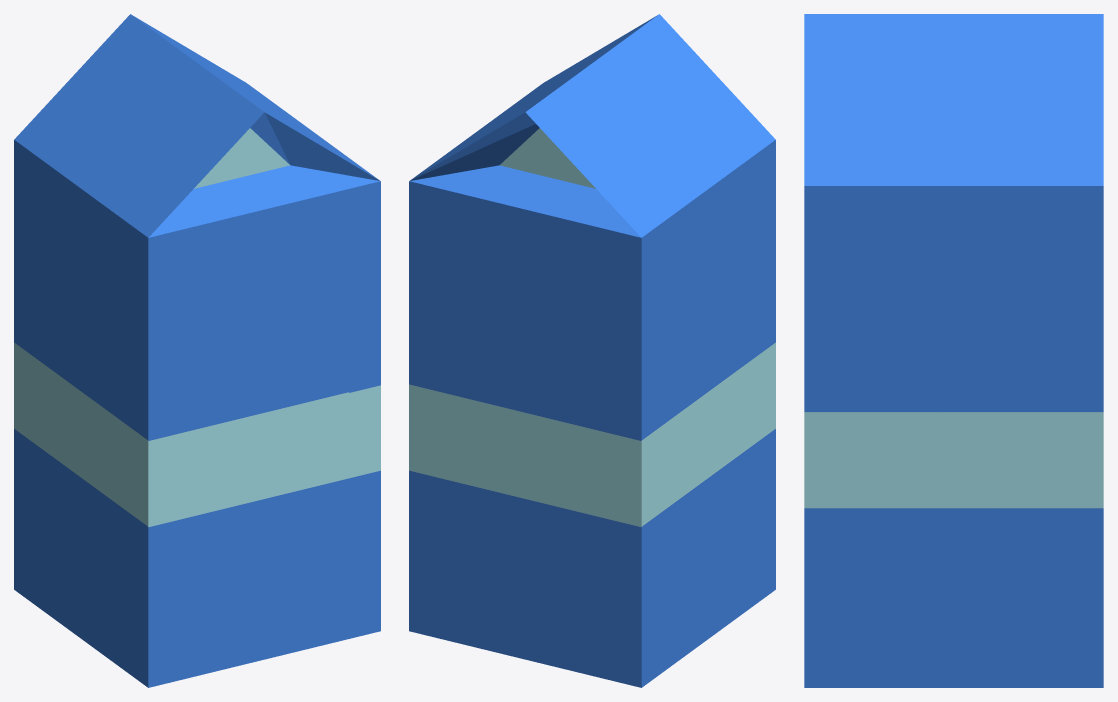
File: Milk.fbx
3 views of the same model, side by side, from view 1: azimuth 30°, elevation 25°; view 2: azimuth 150°, elevation 25°; view 3: azimuth 270°, elevation 25° (orthographic). The views are drawn at different scales.
Parts seen in each view (by area): view 1: Cube; view 2: Cube; view 3: Cube.
Part boxes in pixels (left/top/right/bottom): Cube: left=14, top=14, right=380, bottom=687; Cube: left=409, top=14, right=775, bottom=687; Cube: left=804, top=14, right=1103, bottom=687.
Size of the model in its own units: 200 by 450 by 200.
1 material, 1 textured.
